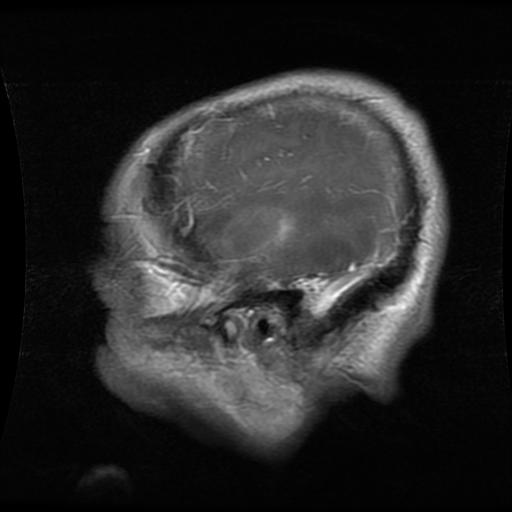Gliomia_tumour: (218, 206, 288, 254)
